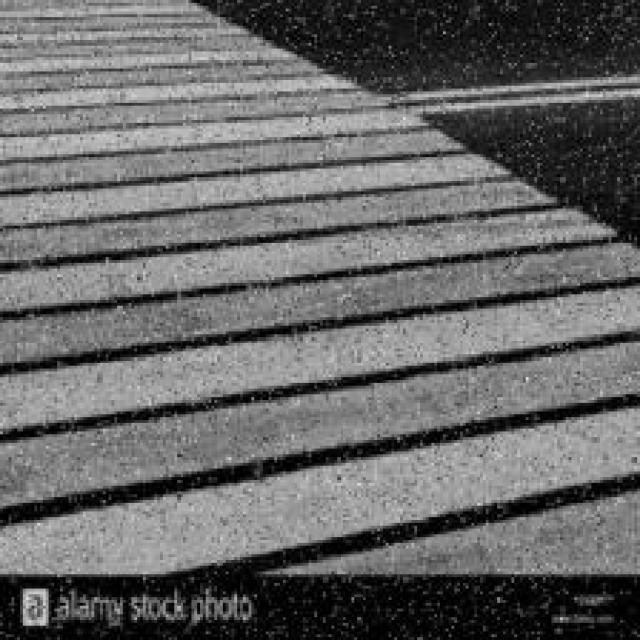crosswalk: (7, 0, 639, 578)
